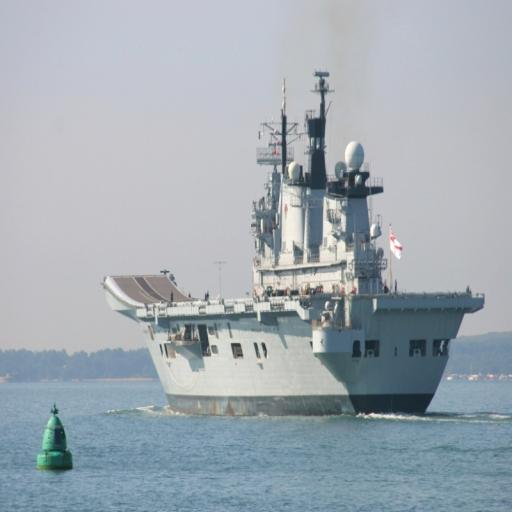Portanaves: (97, 61, 493, 425)
